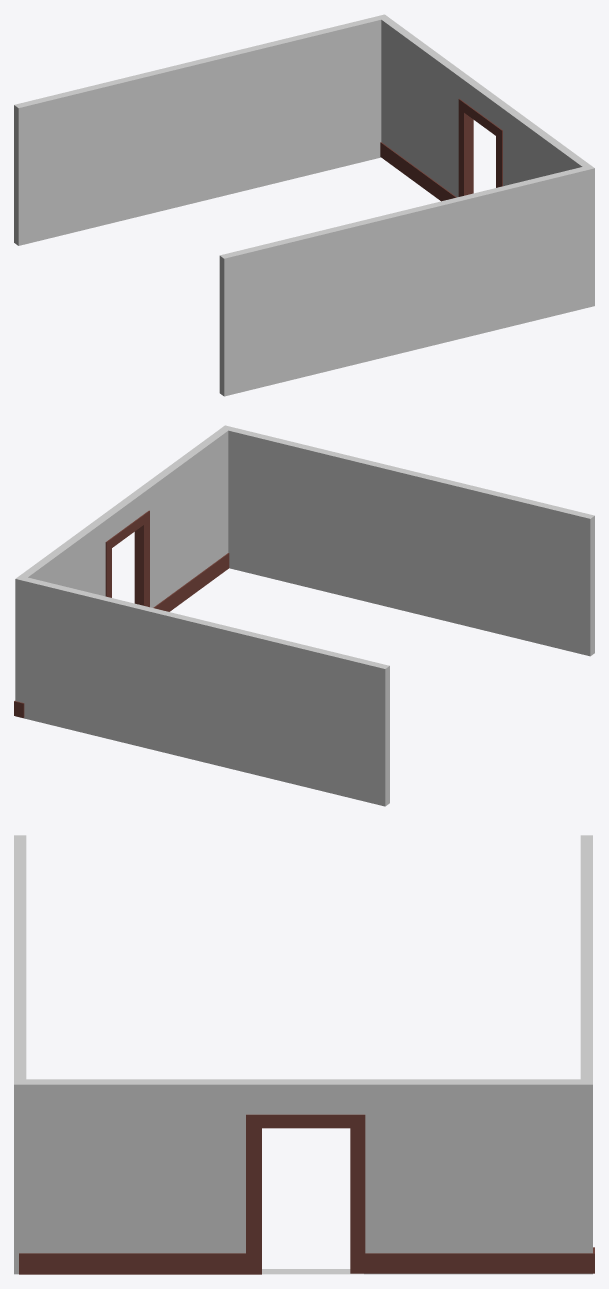
File: Room.fbx
3 views of the same model, one above another, from view 1: azimuth 30°, elevation 25°; view 2: azimuth 150°, elevation 25°; view 3: azimuth 270°, elevation 25° (orthographic). The views are drawn at different scales.
Visible parts, largest first — view 1: Cube.002; view 2: Cube.002; view 3: Cube.002.
Boxes of the visible parts, bbox=[...] form: Cube.002: bbox=[14, 14, 594, 396]; Cube.002: bbox=[14, 425, 594, 806]; Cube.002: bbox=[14, 835, 594, 1274].
Bounding box in the file's own units: 2052 × 727 × 2018.
